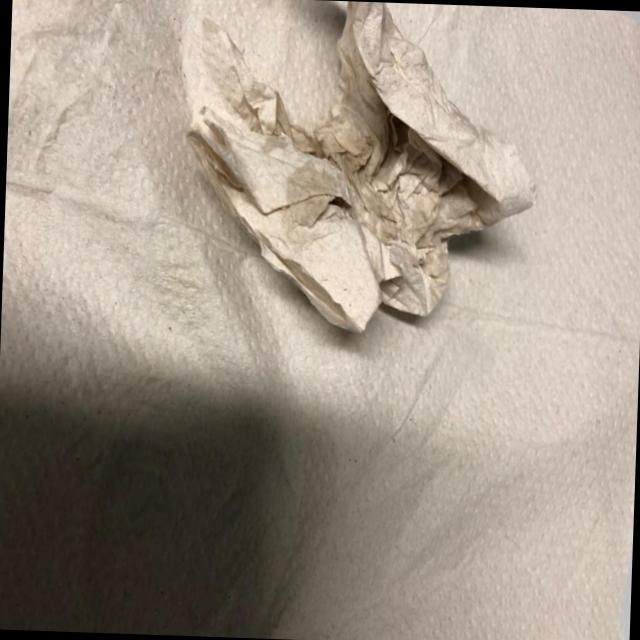organic waste: (183, 0, 547, 344)
